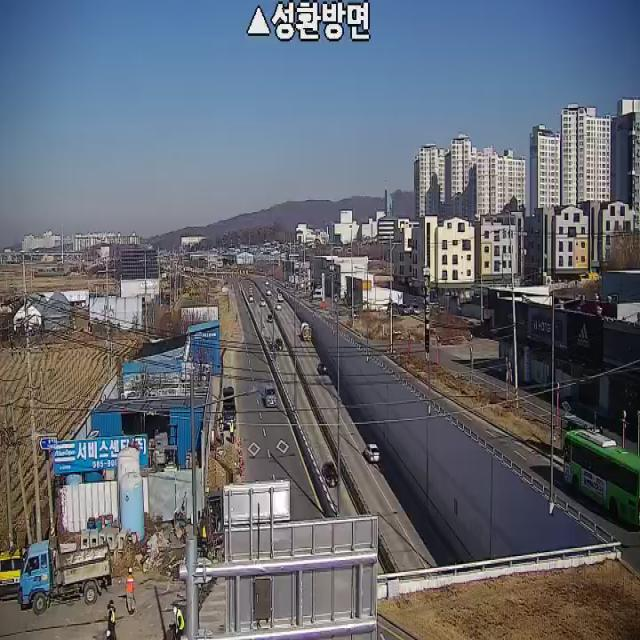Bus: (562, 430, 640, 527)
Car: (0, 545, 27, 600), (572, 414, 602, 442), (322, 461, 338, 488), (363, 443, 380, 462), (264, 385, 278, 407), (318, 362, 330, 375), (275, 338, 283, 351), (266, 314, 273, 322), (260, 297, 266, 306), (275, 304, 282, 310), (248, 293, 252, 302)
Truck: (20, 540, 111, 616), (222, 385, 235, 429), (300, 322, 312, 341), (277, 292, 284, 303)
